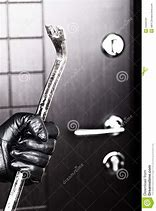crowbar: (1, 23, 70, 211)
